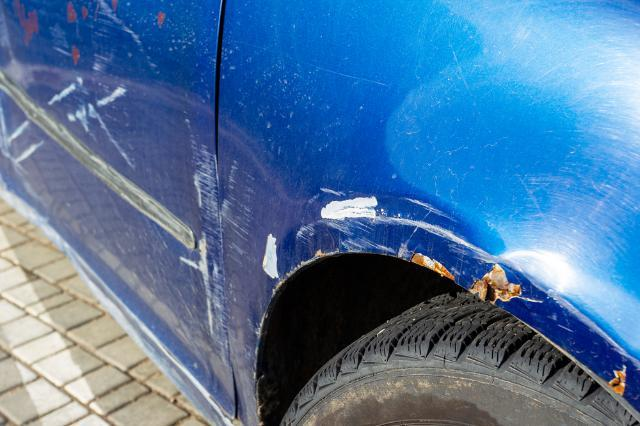rub: (45, 1, 233, 377)
scratch: (292, 185, 528, 293), (217, 156, 259, 379)
